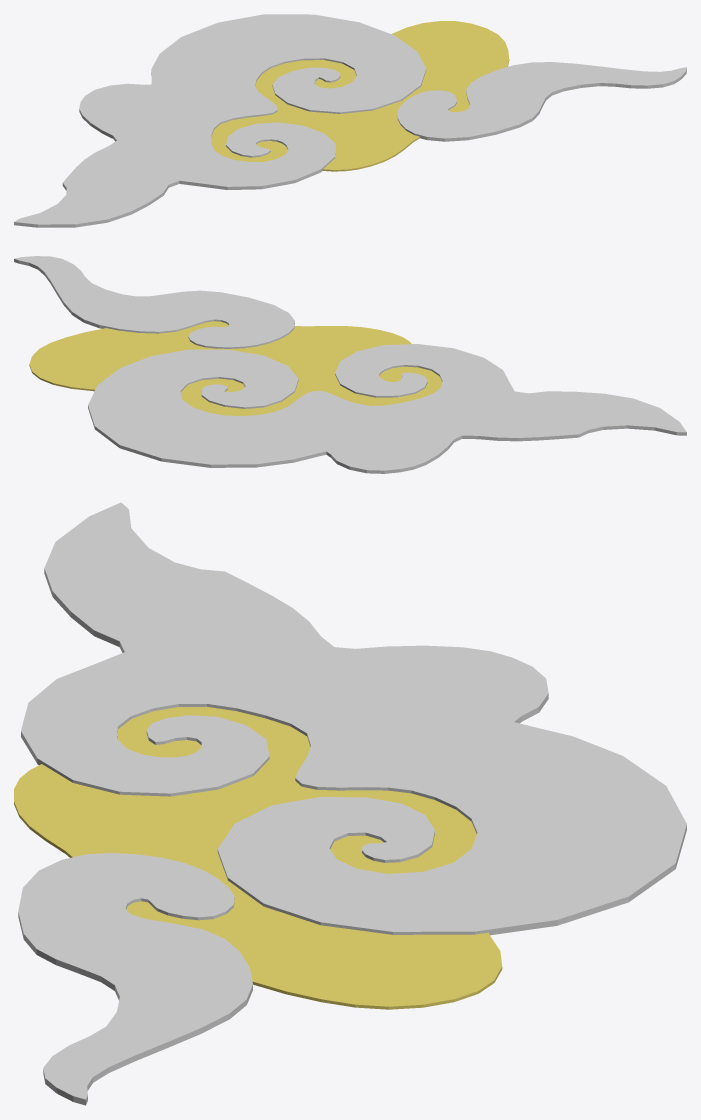
The model's file is cloud-ath.fbx.
3 views of the same model, one above another, from view 1: azimuth 30°, elevation 25°; view 2: azimuth 150°, elevation 25°; view 3: azimuth 270°, elevation 25° (orthographic). The views are drawn at different scales.
Parts seen in each view (by area): view 1: CloudExterior, CloudGold; view 2: CloudExterior, CloudGold; view 3: CloudExterior, CloudGold.
Boxes of the visible parts, bbox=[...] form: CloudExterior: bbox=[14, 14, 686, 227]; CloudGold: bbox=[211, 21, 509, 171]; CloudExterior: bbox=[14, 256, 686, 473]; CloudGold: bbox=[29, 321, 442, 415]; CloudExterior: bbox=[18, 502, 686, 1105]; CloudGold: bbox=[14, 706, 502, 1009].
Bounding box in the file's own units: 141 × 0.6513 × 67.03.
